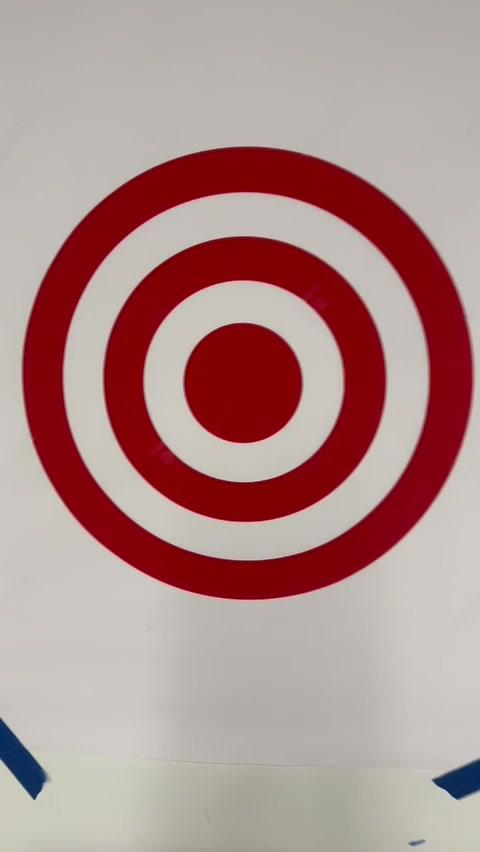target_red: (24, 146, 474, 600)
